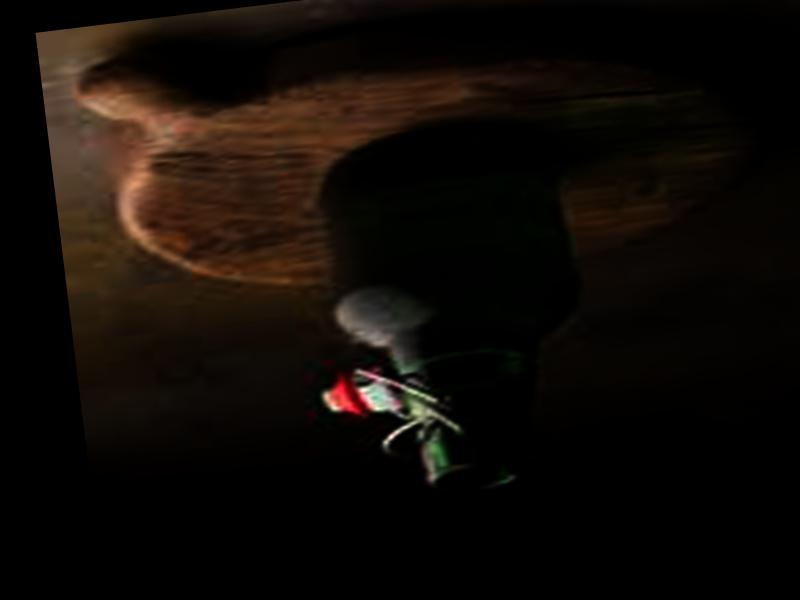Beer: (316, 123, 592, 509)
